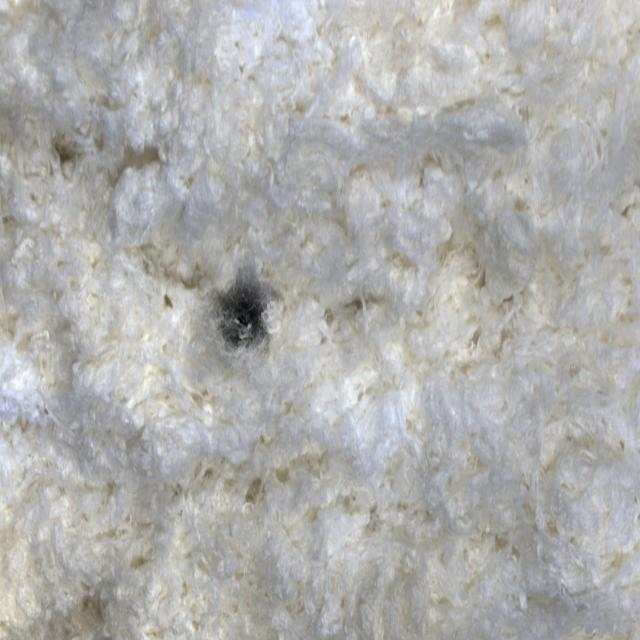dust: (190, 223, 308, 410)
